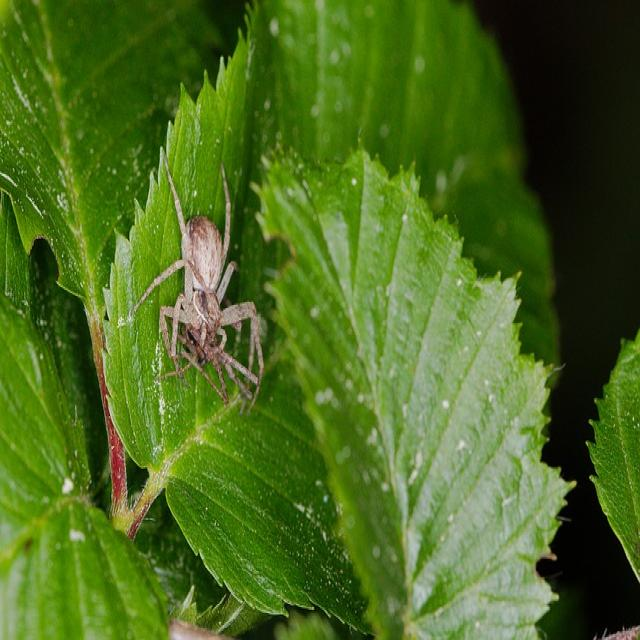spyder: (131, 156, 264, 408)
